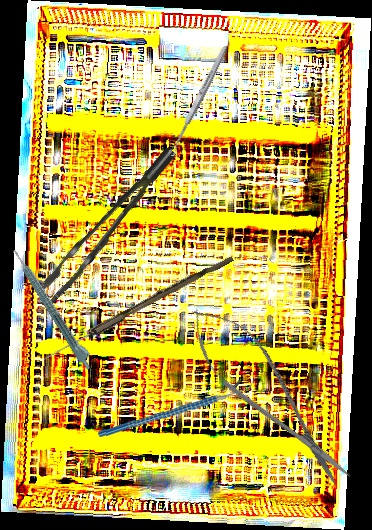Chopper: (97, 370, 259, 443)
Handpiece: (9, 243, 99, 373)
Micro Scissor: (173, 291, 366, 501)
Surgical Spoon: (41, 251, 235, 365), (166, 44, 230, 158)
Tissue Forceps: (24, 146, 195, 306)
